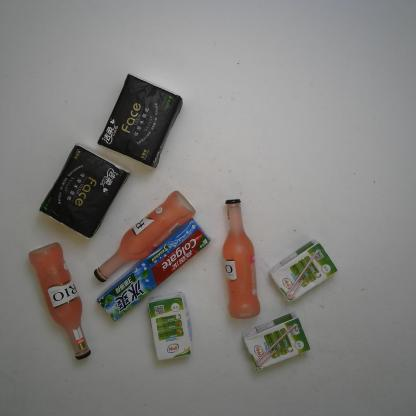Alcohol: (93, 190, 196, 283), (28, 242, 91, 360), (222, 198, 261, 320)
Milk: (268, 239, 338, 303), (242, 312, 311, 371), (147, 292, 195, 361)
Personal Hygiene: (96, 217, 211, 322)
Tissue: (39, 143, 131, 240), (97, 73, 183, 170)
